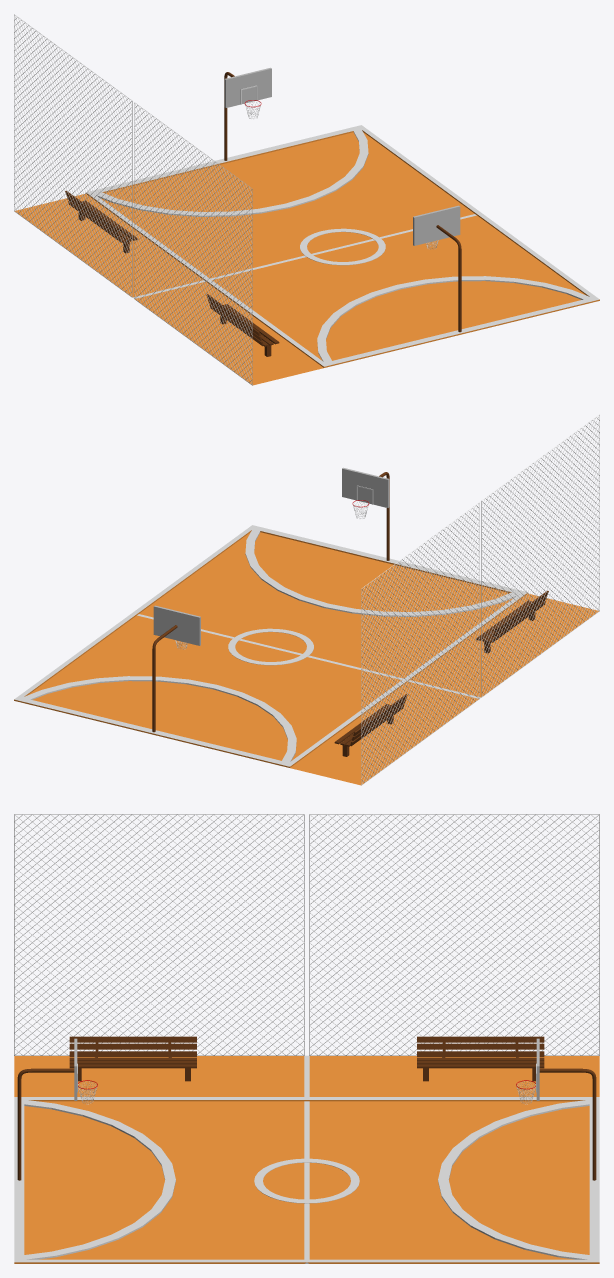
The model's file is Basket Court.fbx.
3 renders of one model, top to bottom at view 1: azimuth 30°, elevation 25°; view 2: azimuth 150°, elevation 25°; view 3: azimuth 270°, elevation 25°, orthographic. The views are drawn at different scales.
Visible parts, largest first — view 1: Field Lines, Side Net, arc 1, Arc 2, Backboard 2, Backboard 1, Bench 1, Bench 2, Circle; view 2: Field Lines, Side Net, arc 1, Arc 2, Backboard 1, Backboard 2, Bench 2, Bench 1, Circle; view 3: Field Lines, Side Net, Bench 1, Bench 2, arc 1, Arc 2, Circle, Stand 1, Stand 2.
Boxes of the visible parts, box(x1,y1,x2,y2) form: Field Lines: box(86, 125, 599, 367); Side Net: box(14, 14, 323, 385); arc 1: box(317, 276, 594, 364); Arc 2: box(94, 127, 368, 216); Backboard 2: box(224, 67, 271, 107); Backboard 1: box(413, 205, 460, 245); Bench 1: box(206, 294, 279, 356); Bench 2: box(65, 190, 137, 253); Circle: box(300, 228, 385, 265); Field Lines: box(14, 525, 527, 767); Side Net: box(290, 414, 599, 785); arc 1: box(245, 527, 522, 616); Arc 2: box(23, 676, 296, 764); Backboard 1: box(342, 467, 389, 507); Backboard 2: box(153, 605, 200, 645); Bench 2: box(334, 694, 407, 756); Bench 1: box(476, 590, 548, 653); Circle: box(228, 628, 313, 665); Field Lines: box(14, 1097, 599, 1263); Side Net: box(14, 814, 599, 1096); Bench 1: box(69, 1036, 196, 1081); Bench 2: box(417, 1036, 544, 1081); arc 1: box(17, 1099, 175, 1260); Arc 2: box(438, 1100, 590, 1259); Circle: box(254, 1158, 359, 1203); Stand 1: box(17, 1068, 74, 1180); Stand 2: box(539, 1068, 596, 1180).
Size of the model in its own units: 15.1 by 8.25 by 17.96.
